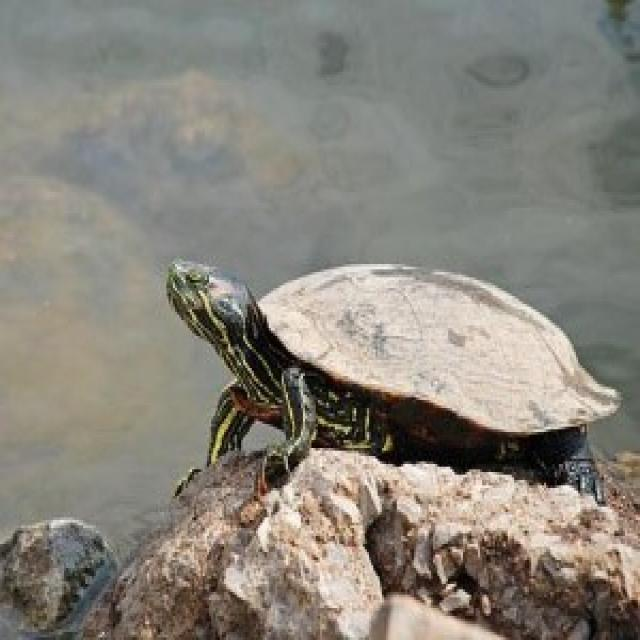Sea turtle: (124, 242, 628, 489)
